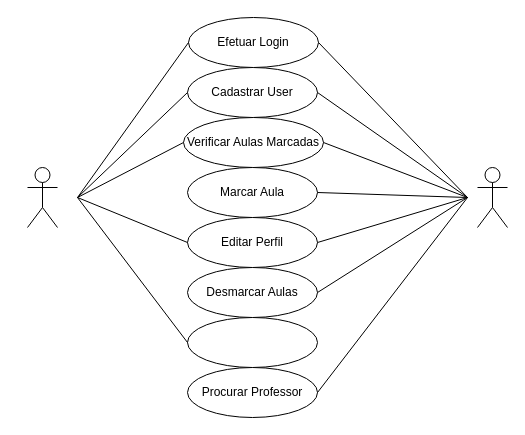
The diagram is 525 pixels wide and 435 high, and some of its shapes have lost their labels. Here are the shapes that lost their labels. From the top down, the centre of each, then its label:
(42,197): Professor
(492,197): Aluno
(252,342): Cadastrar materia
